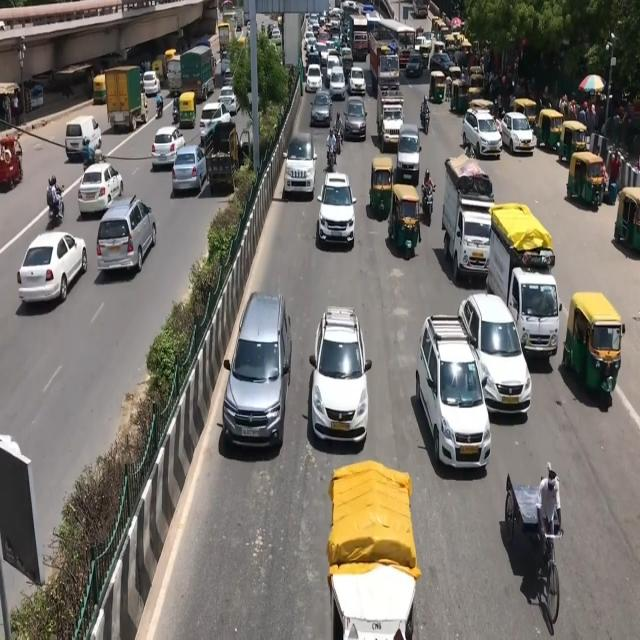Bike: (421, 173, 439, 225), (326, 128, 342, 174)
Truck: (207, 126, 250, 195)
